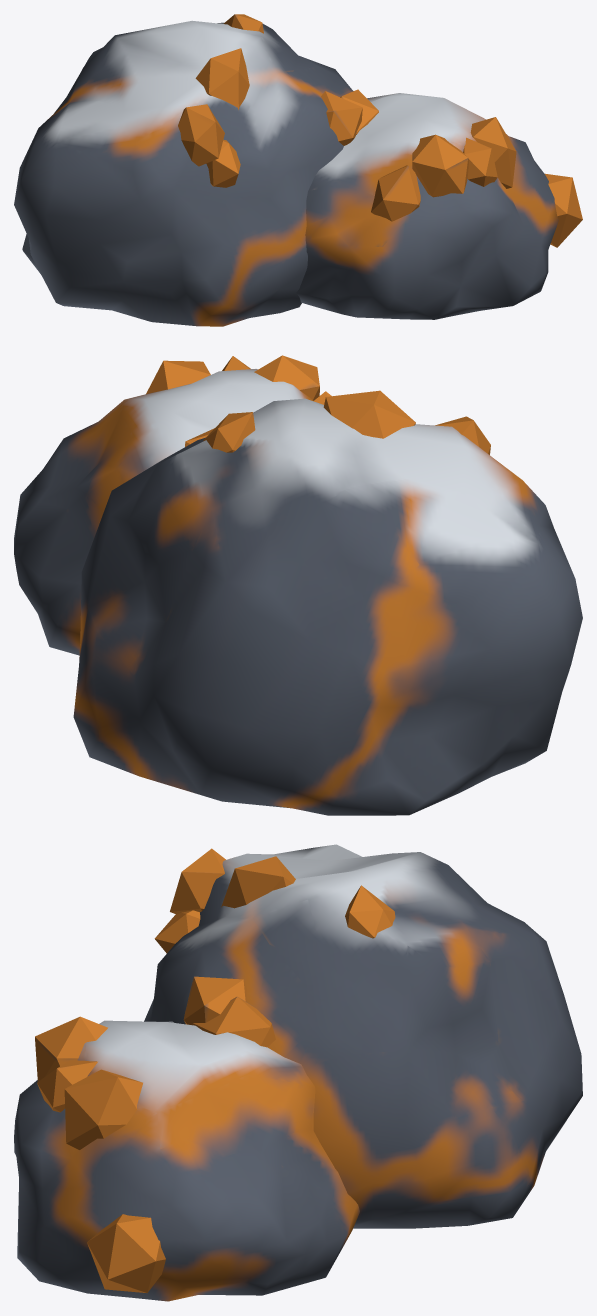
File: season_rock_b_snow.glb
3 views of the same model, one above another, from view 1: azimuth 30°, elevation 25°; view 2: azimuth 150°, elevation 25°; view 3: azimuth 270°, elevation 25° (orthographic). The views are drawn at different scales.
Visible parts, largest first — view 1: nug; view 2: nug; view 3: nug.
Part boxes in pixels (x1,y1,x2,y2): nug: [14, 14, 582, 326]; nug: [14, 355, 582, 815]; nug: [14, 844, 582, 1301].
Size of the model in its own units: 1.92 by 0.9374 by 1.6.
1 material, 1 textured.
